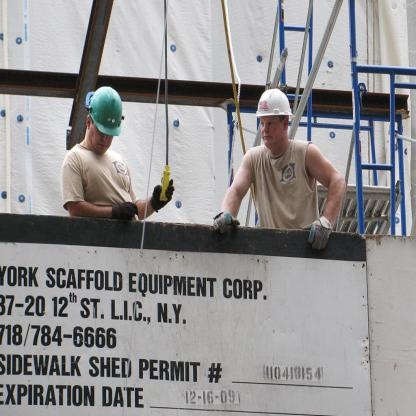Helmet: (80, 83, 122, 140), (257, 86, 293, 117)
